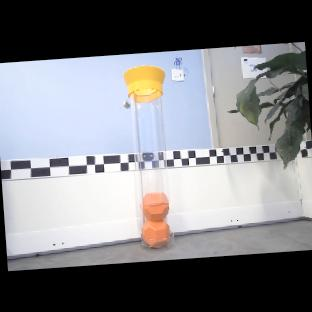V5_RED: (140, 191, 169, 221), (141, 219, 171, 248)
